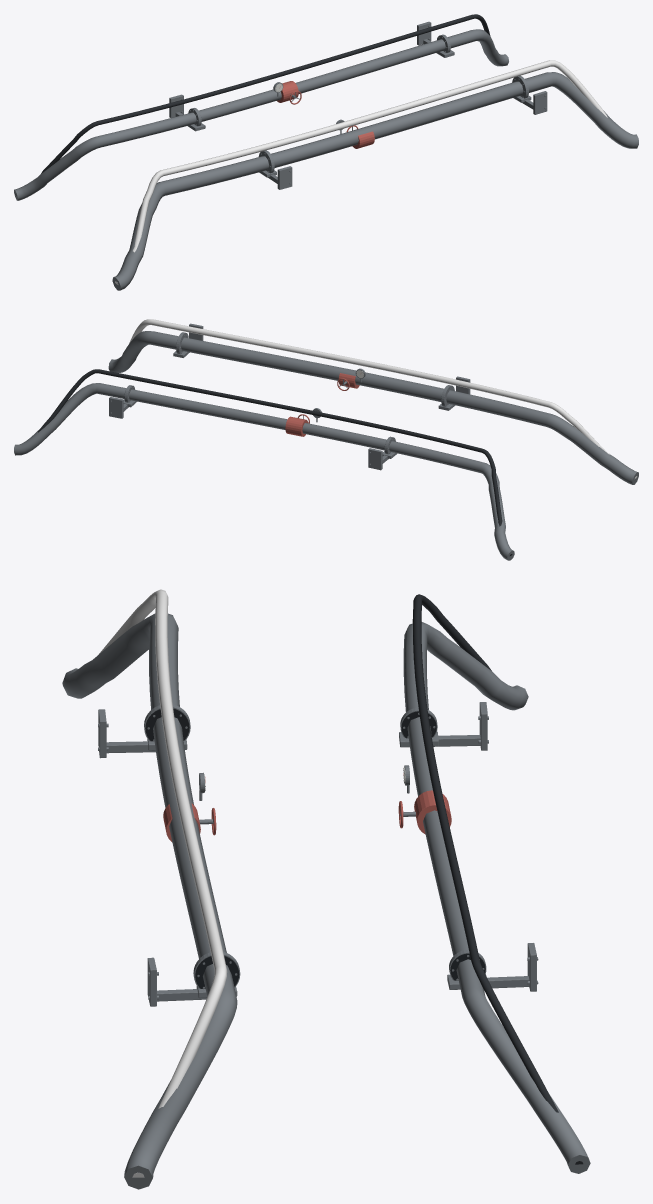
Rendered from BD_T08_UpperProcessLines.fbx.
3 views of the same model, one above another, from view 1: azimuth 30°, elevation 25°; view 2: azimuth 150°, elevation 25°; view 3: azimuth 270°, elevation 25° (orthographic). The views are drawn at different scales.
Visible parts, largest first — view 1: BD_T08_UpperProcessLines; view 2: BD_T08_UpperProcessLines; view 3: BD_T08_UpperProcessLines.
Part boxes in pixels (x1,y1,x2,y2): BD_T08_UpperProcessLines: [14, 14, 638, 290]; BD_T08_UpperProcessLines: [14, 319, 638, 560]; BD_T08_UpperProcessLines: [62, 589, 590, 1189].
Bounding box in the file's own units: 1215 × 189 × 545.
